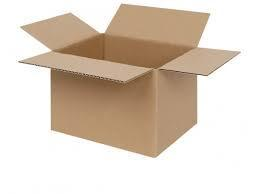box: (17, 4, 240, 156)
